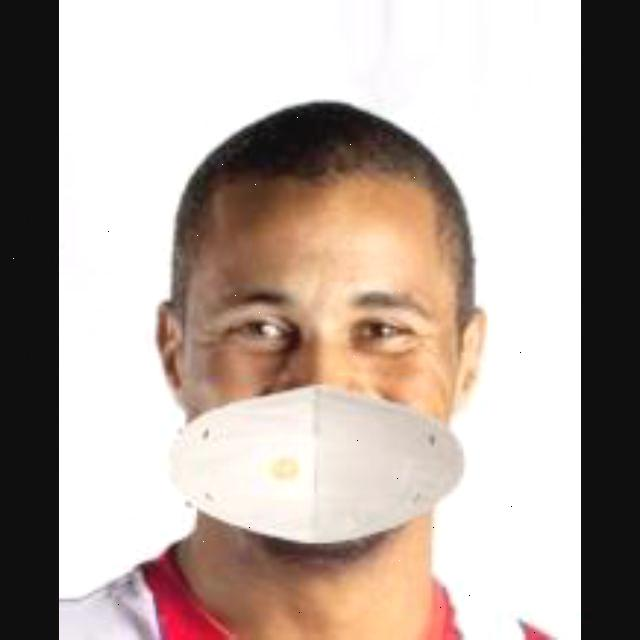suspicion: (168, 153, 450, 519)
